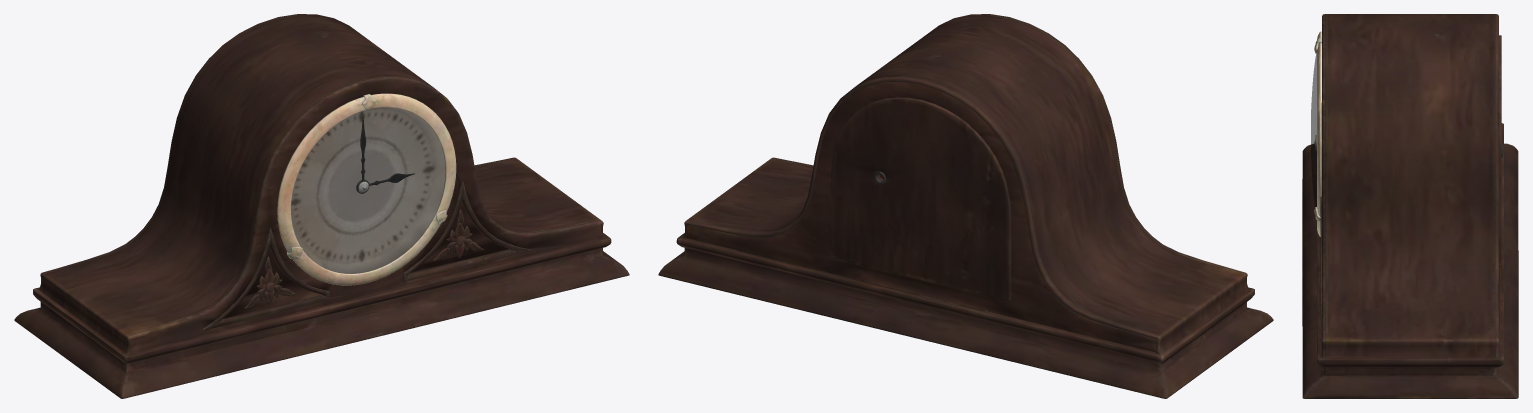
Rendered from mantel_clock_01.glb.
3 views of the same model, side by side, from view 1: azimuth 30°, elevation 25°; view 2: azimuth 150°, elevation 25°; view 3: azimuth 270°, elevation 25° (orthographic).
Visible parts, largest first — view 1: mantel_clock_01, mantel_clock_01_glass; view 2: mantel_clock_01; view 3: mantel_clock_01, mantel_clock_01_glass.
Part boxes in pixels (x1,y1,x2,y2): mantel_clock_01: (14,14,629,398); mantel_clock_01_glass: (291,107,445,273); mantel_clock_01: (658,14,1273,398); mantel_clock_01: (1302,14,1518,398); mantel_clock_01_glass: (1311,53,1316,207).
Bounding box in the file's own units: 0.3423 × 0.1605 × 0.1262.
2 materials, 2 textured.
